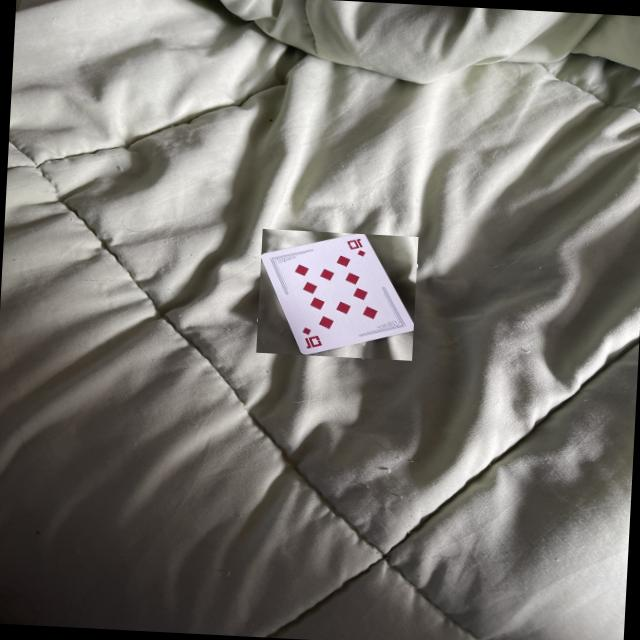10 of diamonds: (262, 236, 414, 355)
